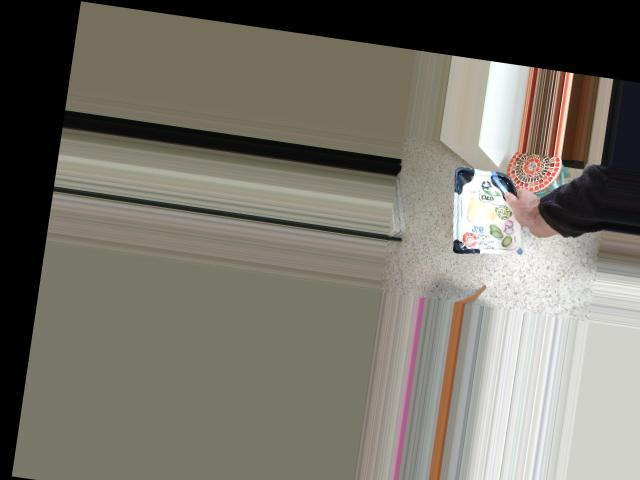cheese: (467, 181, 544, 263)
